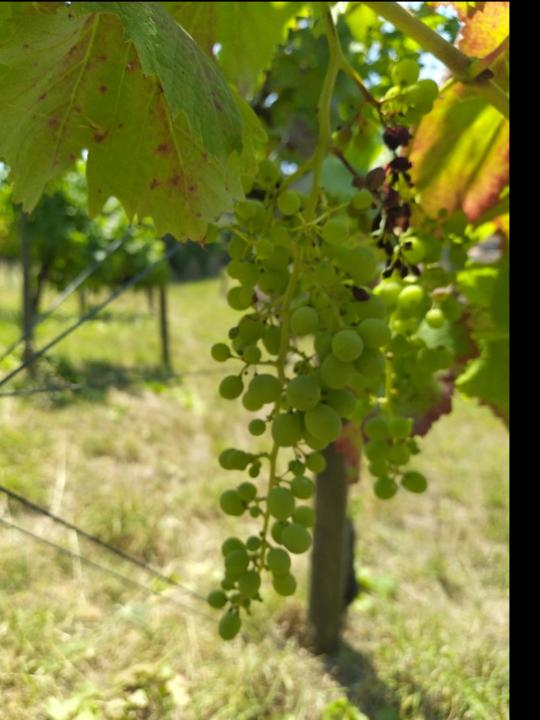grape: (201, 186, 392, 641), (344, 118, 437, 283)
